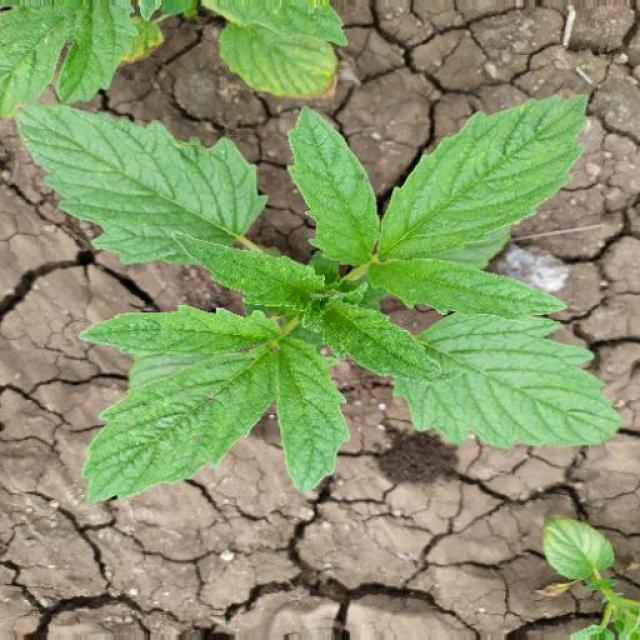crop: (10, 86, 628, 505)
